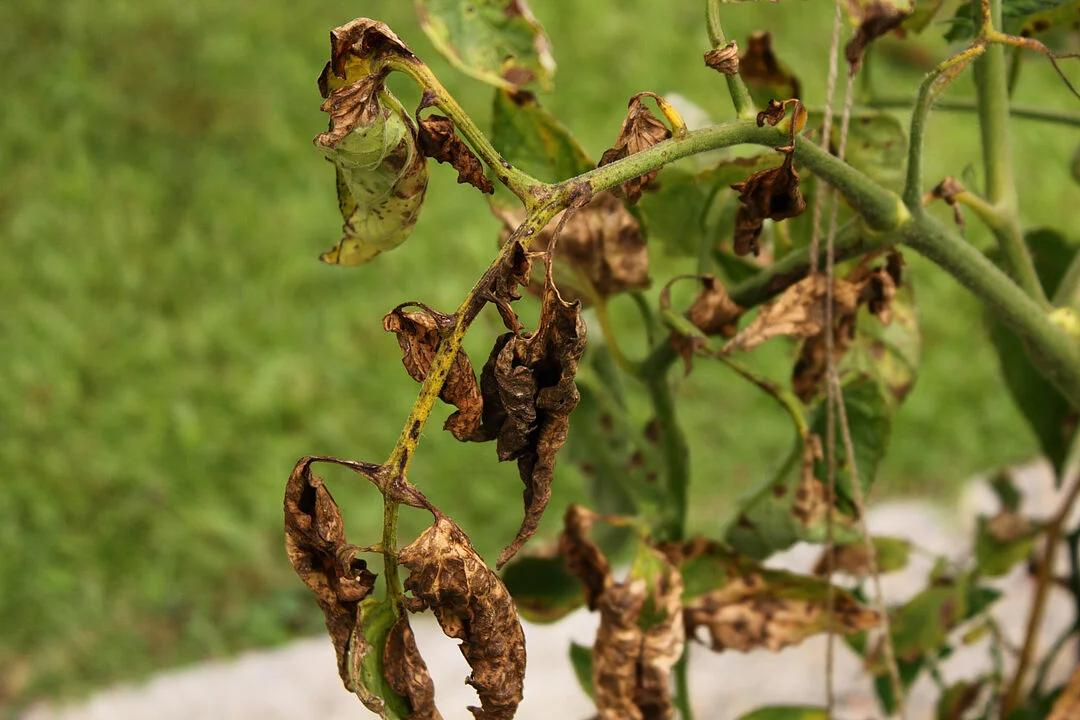Verticillium wilt: (455, 272, 585, 566), (313, 19, 427, 266), (398, 512, 525, 719), (284, 457, 376, 686), (731, 147, 805, 255), (384, 615, 441, 719), (418, 114, 492, 193), (383, 303, 455, 381), (598, 92, 672, 166)
